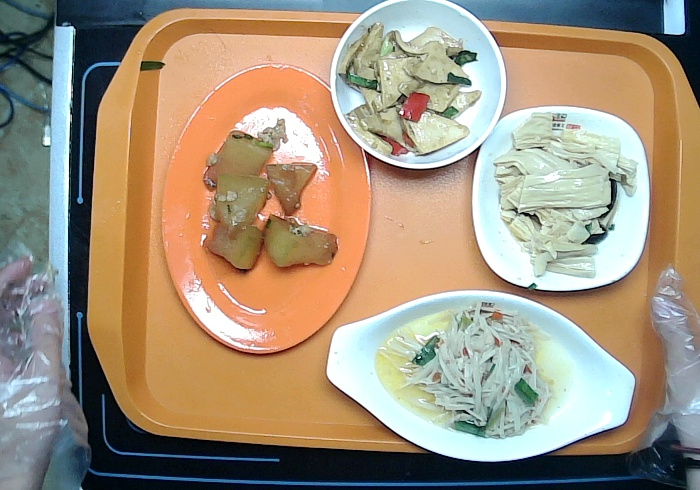NLDX-Bai_Se_Xiao_Fang_Die: (471, 104, 651, 293)
NLDX-Fan_Wan: (327, 1, 508, 169)
NLDX-Ju_Se_Pan: (159, 63, 373, 355)
NLDX-Yu_Pan: (325, 290, 637, 463)
